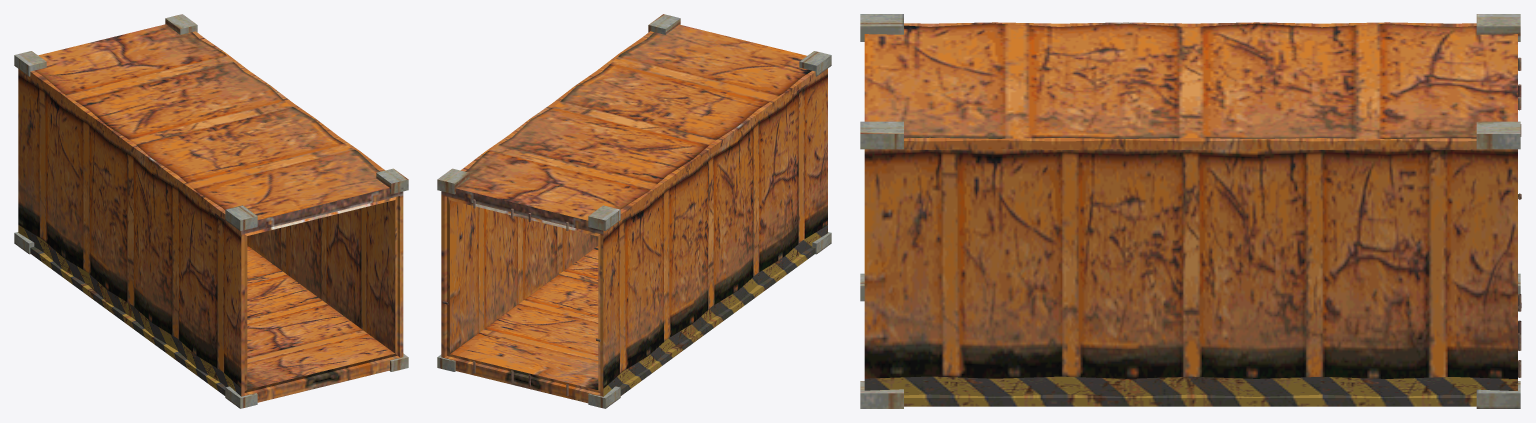
File: ContainerOpen2_SM.fbx
The picture shows the model from 3 angles, left to right: view 1: azimuth 30°, elevation 25°; view 2: azimuth 150°, elevation 25°; view 3: azimuth 270°, elevation 25°; orthographic projection. The views are drawn at different scales.
Visible parts, largest first — view 1: Box011; view 2: Box011; view 3: Box011.
Part boxes in pixels (<box>): Box011: <box>14,14,408,408</box>; Box011: <box>437,14,831,408</box>; Box011: <box>860,14,1521,408</box>.
Size of the model in its own units: 238 by 255 by 555.
Materials: 1 (1 with a texture image).
